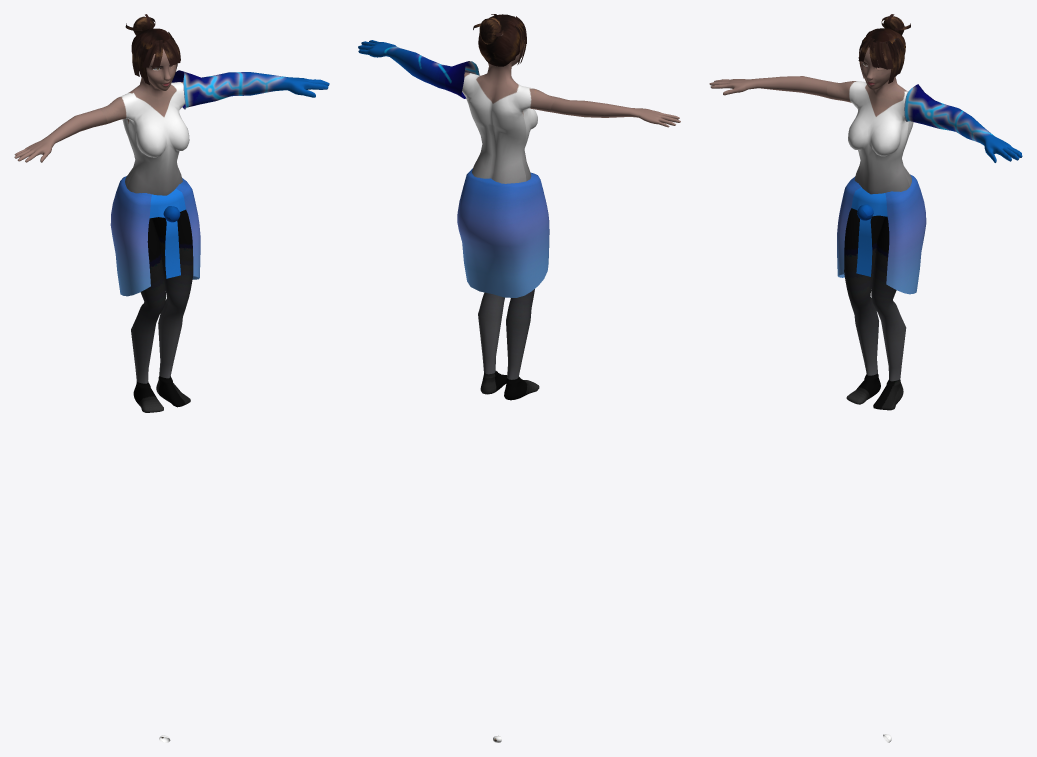
Rendered from MSH_Personaje.FBX.
The picture shows the model from 3 angles, left to right: view 1: azimuth 30°, elevation 25°; view 2: azimuth 150°, elevation 25°; view 3: azimuth 330°, elevation 25°; orthographic projection. The views are drawn at different scales.
Parts seen in each view (by area): view 1: Personaje, hair; view 2: Personaje, hair; view 3: Personaje, hair.
Part boxes in pixels (<box>): Personaje: <box>14,49,329,412</box>; hair: <box>125,14,180,84</box>; Personaje: <box>358,40,680,400</box>; hair: <box>473,14,526,66</box>; Personaje: <box>709,47,1022,410</box>; hair: <box>858,14,910,83</box>.
Size of the model in its own units: 1.44 by 3.19 by 0.3597.
Materials: 3 (3 with a texture image).
